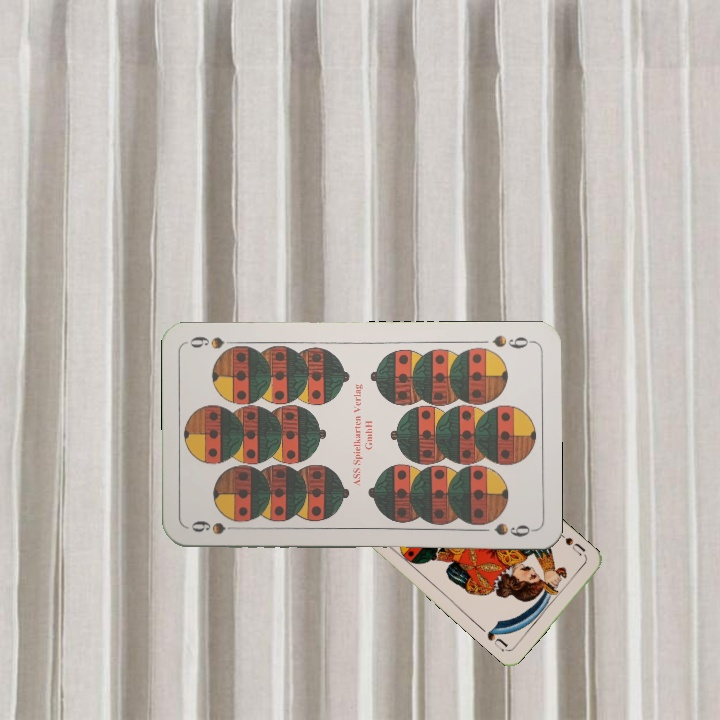S9: (488, 331, 535, 351), (187, 517, 232, 537)
SU: (557, 530, 588, 558)
